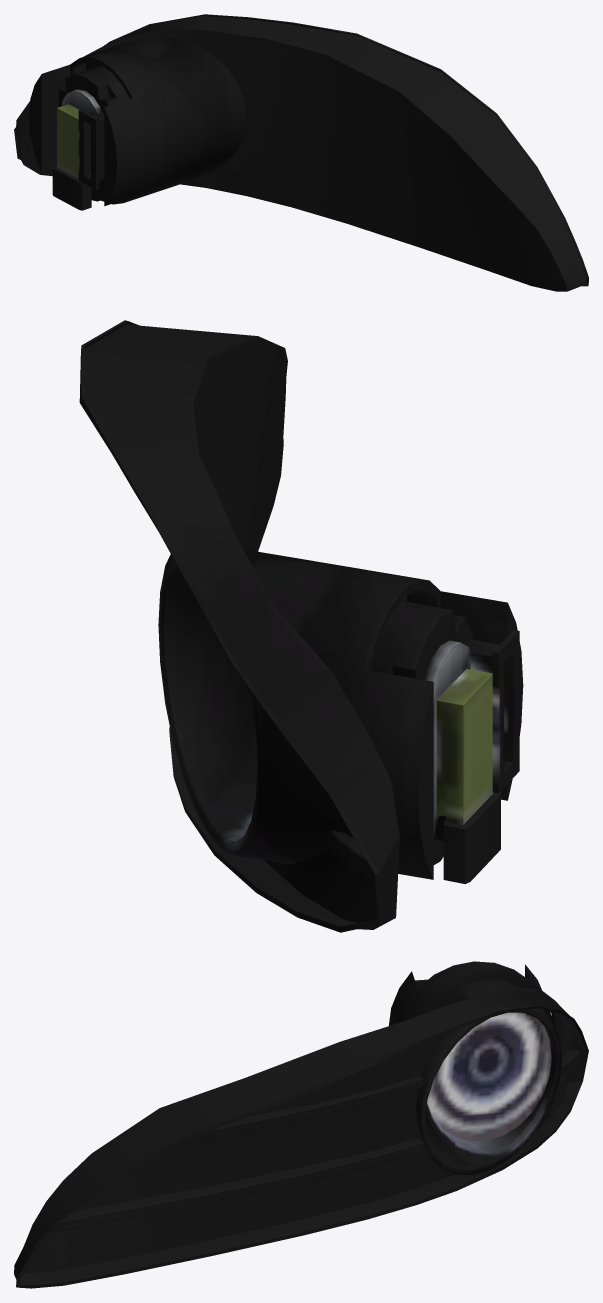
Rendered from E5_灯光系统_前雾灯.FBX.
3 views of the same model, one above another, from view 1: azimuth 30°, elevation 25°; view 2: azimuth 150°, elevation 25°; view 3: azimuth 270°, elevation 25° (orthographic). The views are drawn at different scales.
Parts seen in each view (by area): view 1: QWD_Z; view 2: QWD_Z; view 3: QWD_Z.
Boxes of the visible parts, x1=… form: QWD_Z: x1=14, y1=14, x2=588, y2=291; QWD_Z: x1=79, y1=320, x2=523, y2=932; QWD_Z: x1=14, y1=961, x2=588, y2=1288.
Bounding box in the file's own units: 26.33 × 12.85 × 35.2.
